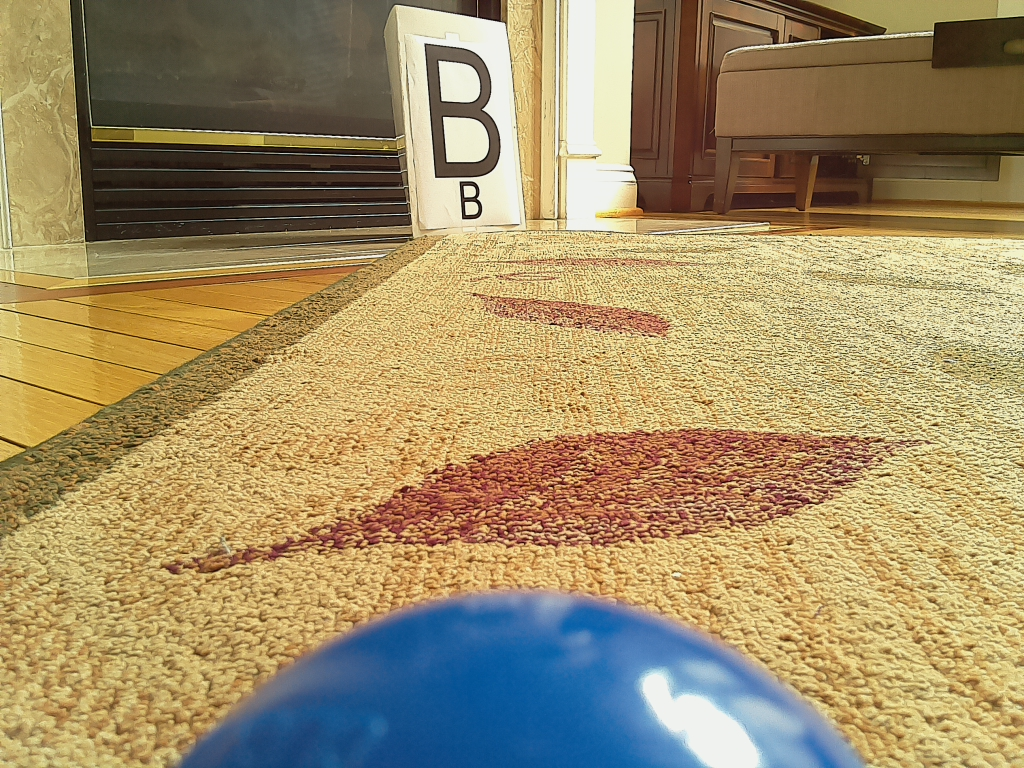letter: (423, 44, 502, 178)
